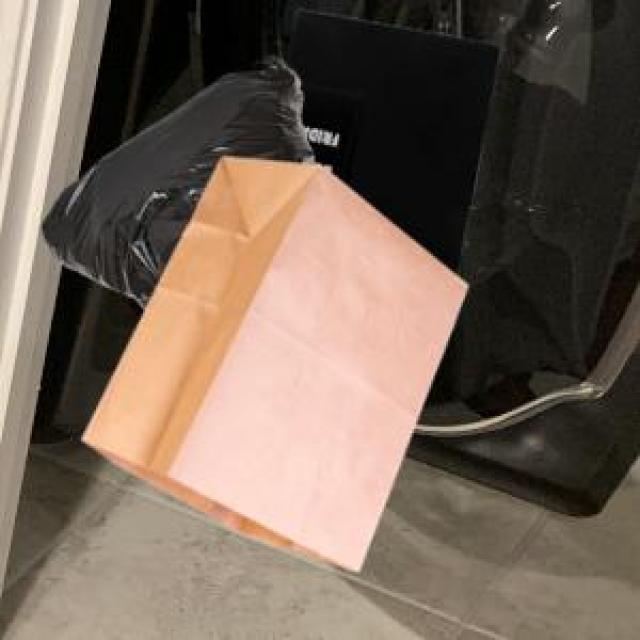miscellaneous trash: (38, 53, 312, 305)
paper: (79, 154, 463, 568), (284, 6, 497, 271)
